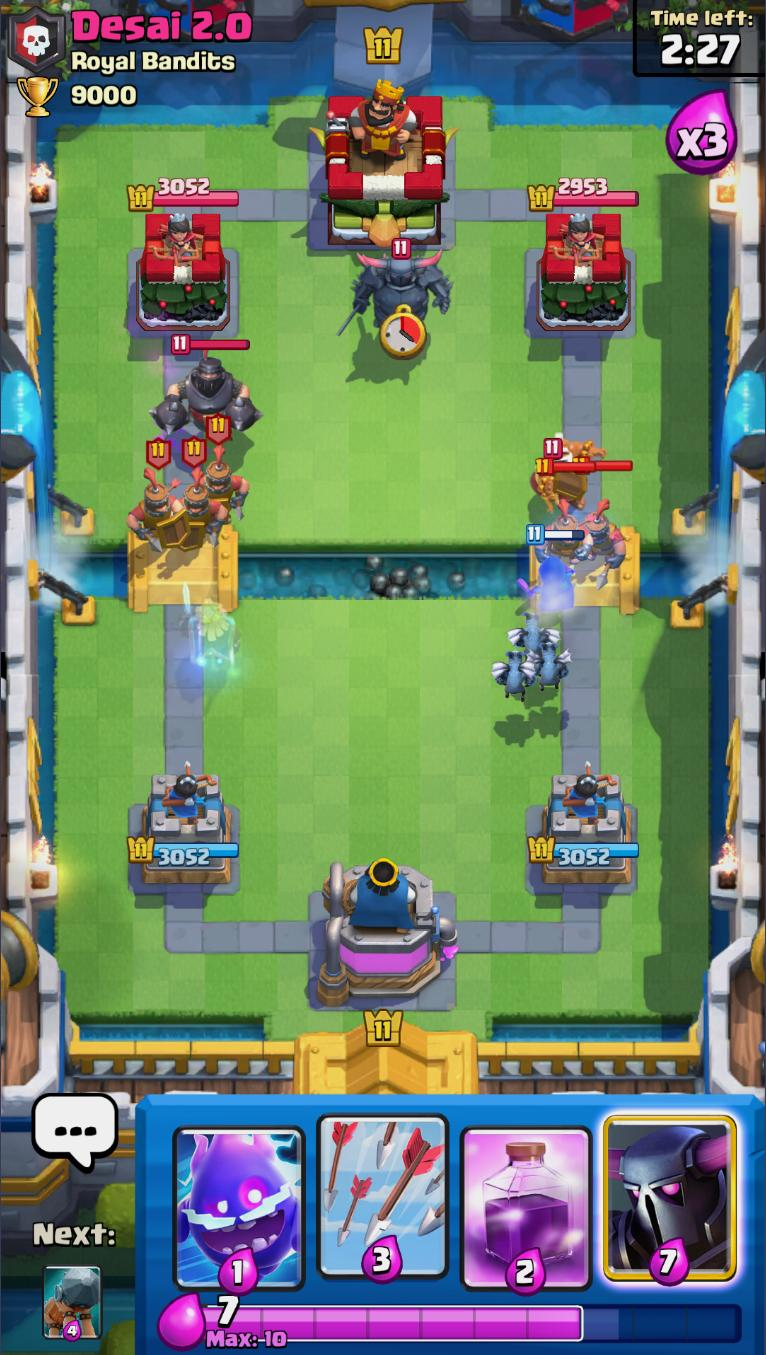ArrowDeck: (311, 1099, 454, 1296)
BattleRamNext: (41, 1263, 103, 1343)
ElectroSpiritDeck: (164, 1096, 313, 1294)
Elixir: (201, 1296, 741, 1351)
EnemyTower: (136, 211, 234, 331), (538, 209, 632, 333), (129, 178, 239, 212), (529, 178, 640, 211)
KingTower: (311, 79, 459, 246)
MegaKnight: (151, 332, 264, 438)
Monk: (530, 433, 604, 513)
MyBandit: (517, 523, 584, 610)
MyKingTower: (317, 860, 460, 1007)
MyMinion: (509, 607, 557, 660), (493, 649, 540, 700), (530, 643, 574, 694)
MyPrincessTower: (129, 771, 240, 889), (531, 773, 639, 889)
MyPrincessTowerHP: (126, 836, 241, 867), (531, 835, 640, 866)
MyRoyaleGhost: (179, 580, 246, 670)
Pekka: (340, 237, 454, 336)
PekkaDeck: (599, 1094, 741, 1296)
PrincessTower: (550, 211, 605, 264), (149, 213, 204, 264)
RageDeck: (456, 1096, 597, 1294)
RoyalRecruit: (572, 455, 633, 591), (129, 435, 189, 552), (534, 456, 597, 567), (177, 435, 231, 550), (201, 410, 250, 524)
